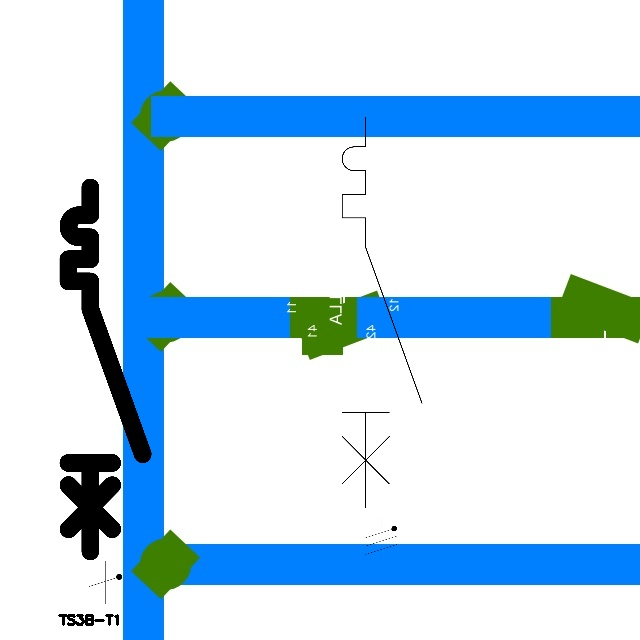interruptor_termomagnetico: (332, 107, 432, 517), (59, 178, 152, 560)
